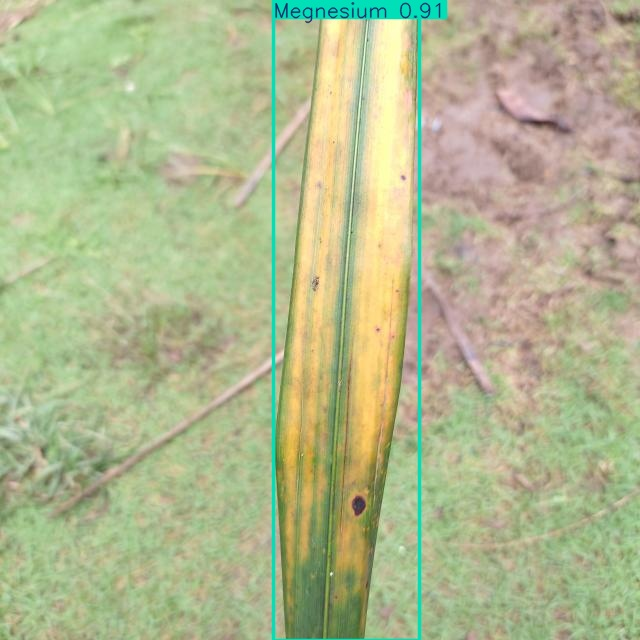Megnesium: (273, 0, 419, 640)
